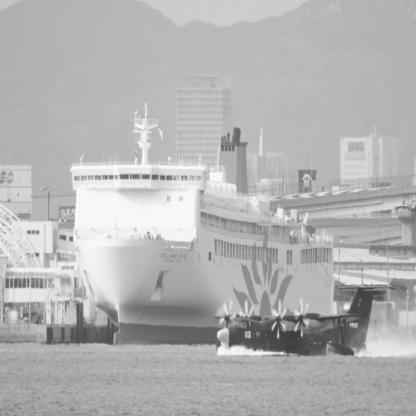US2: (214, 283, 398, 358)
